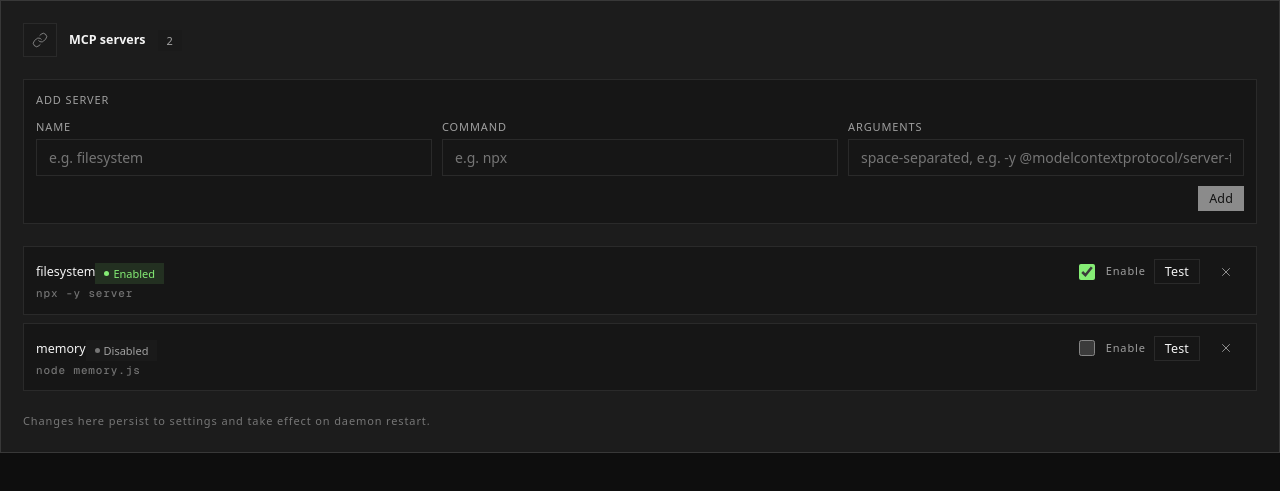
McpServersPanel › surfaces a failed connection test with the error message
The width and height of the screenshot is (1280, 491).
Click the button "Test" in the row of "Enabled" at (1177, 272), box left=1154, top=259, right=1200, bottom=284
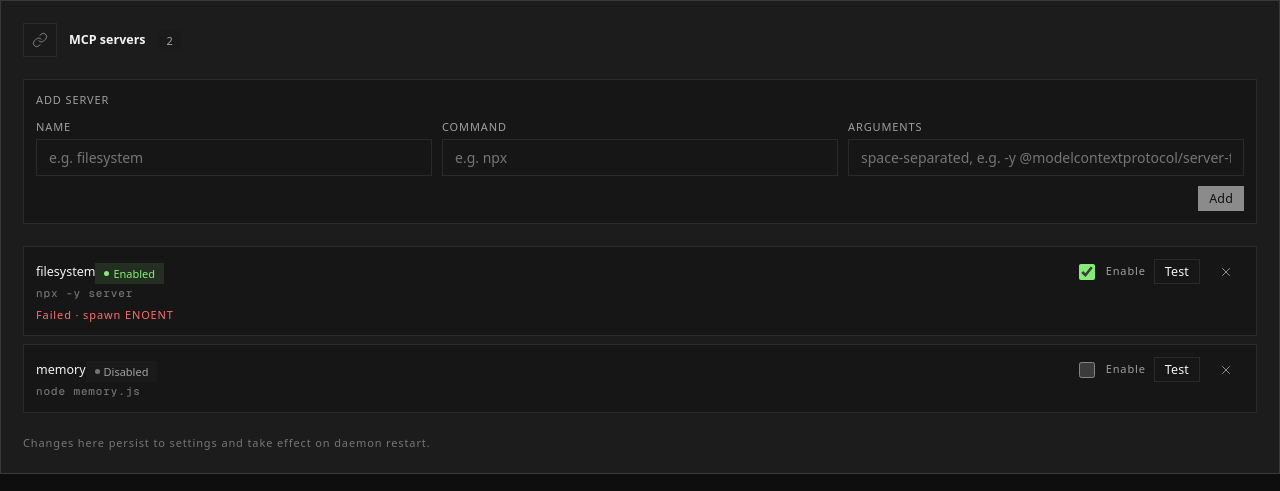
Now the text "Failed · spawn ENOENT" is shown, box left=36, top=306, right=174, bottom=323
